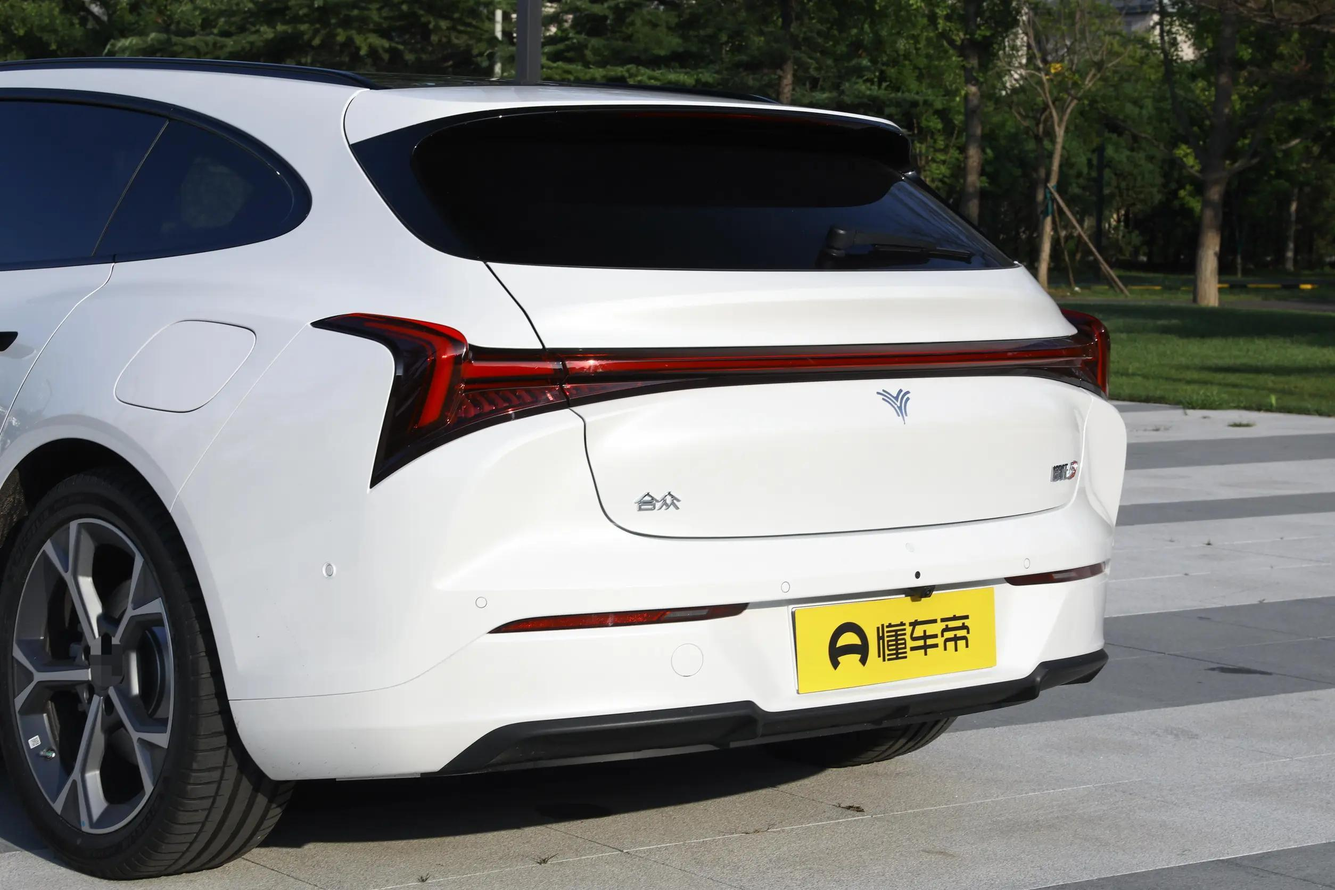NETA: (875, 389, 912, 424)
